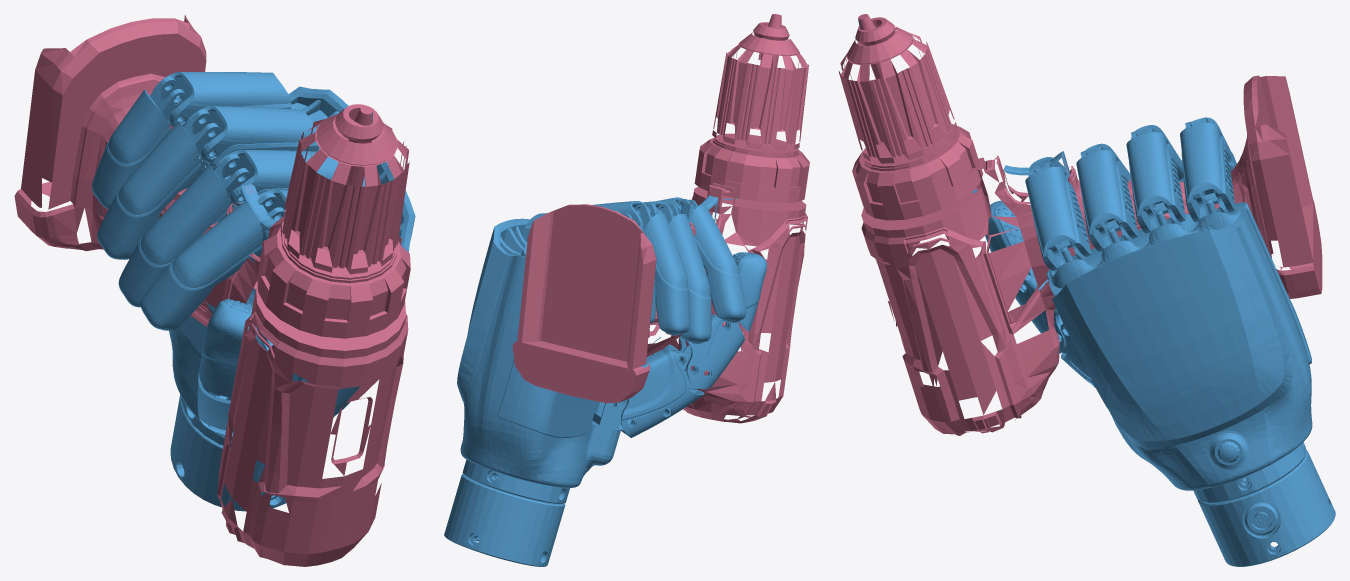
3 views of the same model, side by side, from view 1: azimuth 30°, elevation 25°; view 2: azimuth 150°, elevation 25°; view 3: azimuth 270°, elevation 25° (orthographic). The views are drawn at different scales.
Parts seen in each view (by area): view 1: 1; view 2: 1; view 3: 1.
Boxes of the visible parts, x1,y1,x2,y2 form: 1: [14, 14, 415, 566]; 1: [444, 14, 809, 566]; 1: [838, 14, 1335, 566].
Size of the model in its own units: 0.11 by 0.2255 by 0.2063.
